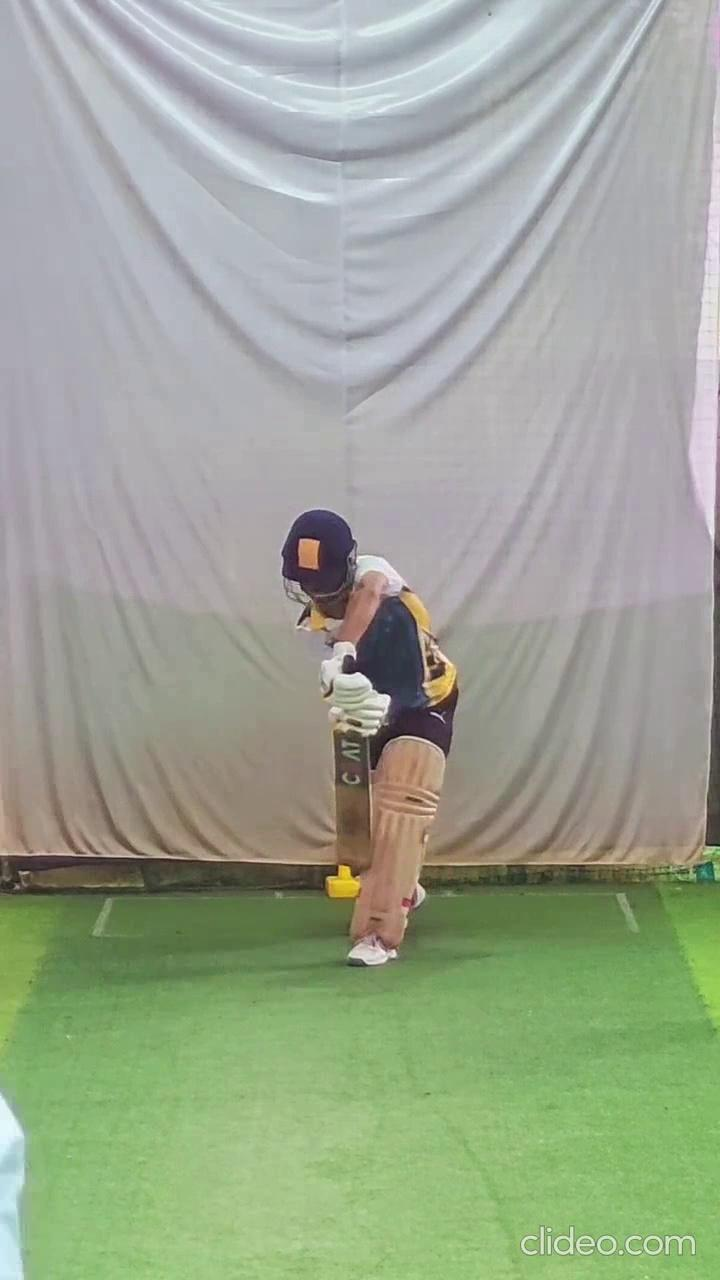bat: (331, 728, 374, 874)
